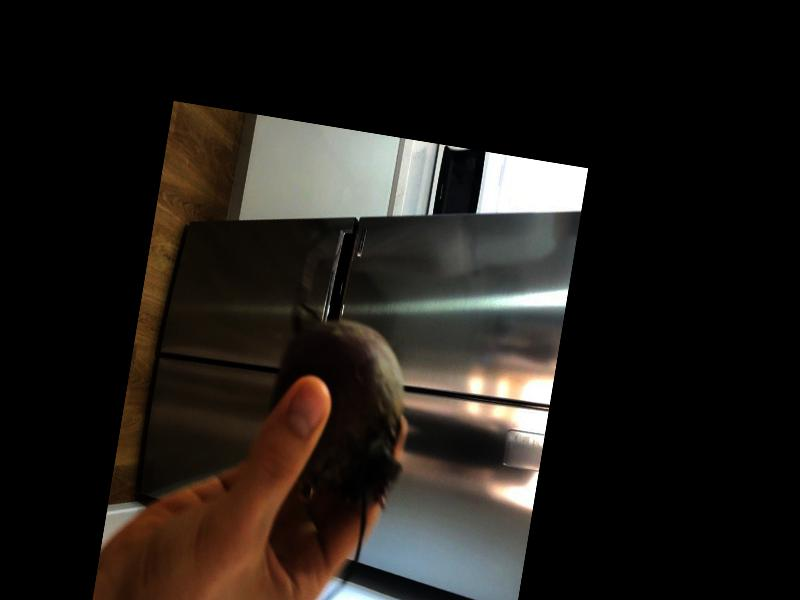Beet: (236, 280, 427, 600)
